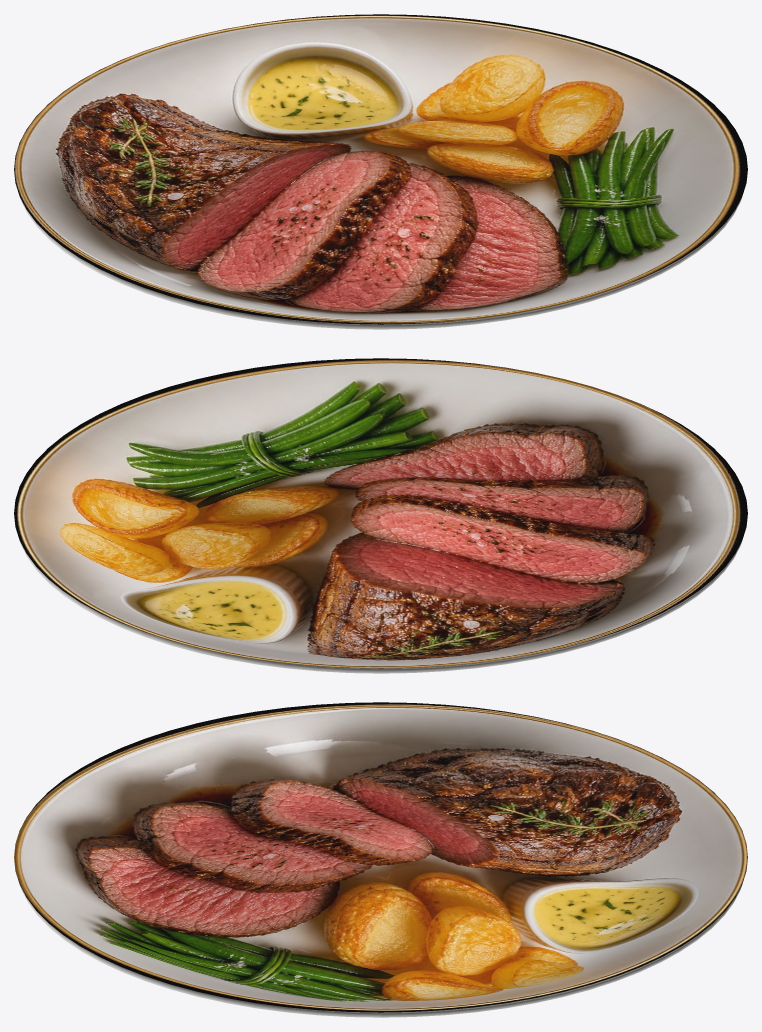
Rendered from chateaubriand.glb.
3 views of the same model, one above another, from view 1: azimuth 30°, elevation 25°; view 2: azimuth 150°, elevation 25°; view 3: azimuth 270°, elevation 25° (orthographic).
Parts seen in each view (by area): view 1: dish; view 2: dish; view 3: dish.
Boxes of the visible parts, x1,y1,x2,y2 form: dish: (14,14,747,329); dish: (14,358,747,673); dish: (14,702,747,1017).
Bounding box in the file's own units: 0.34 × 0.0275 × 0.34.
Materials: 2 (1 with a texture image).
